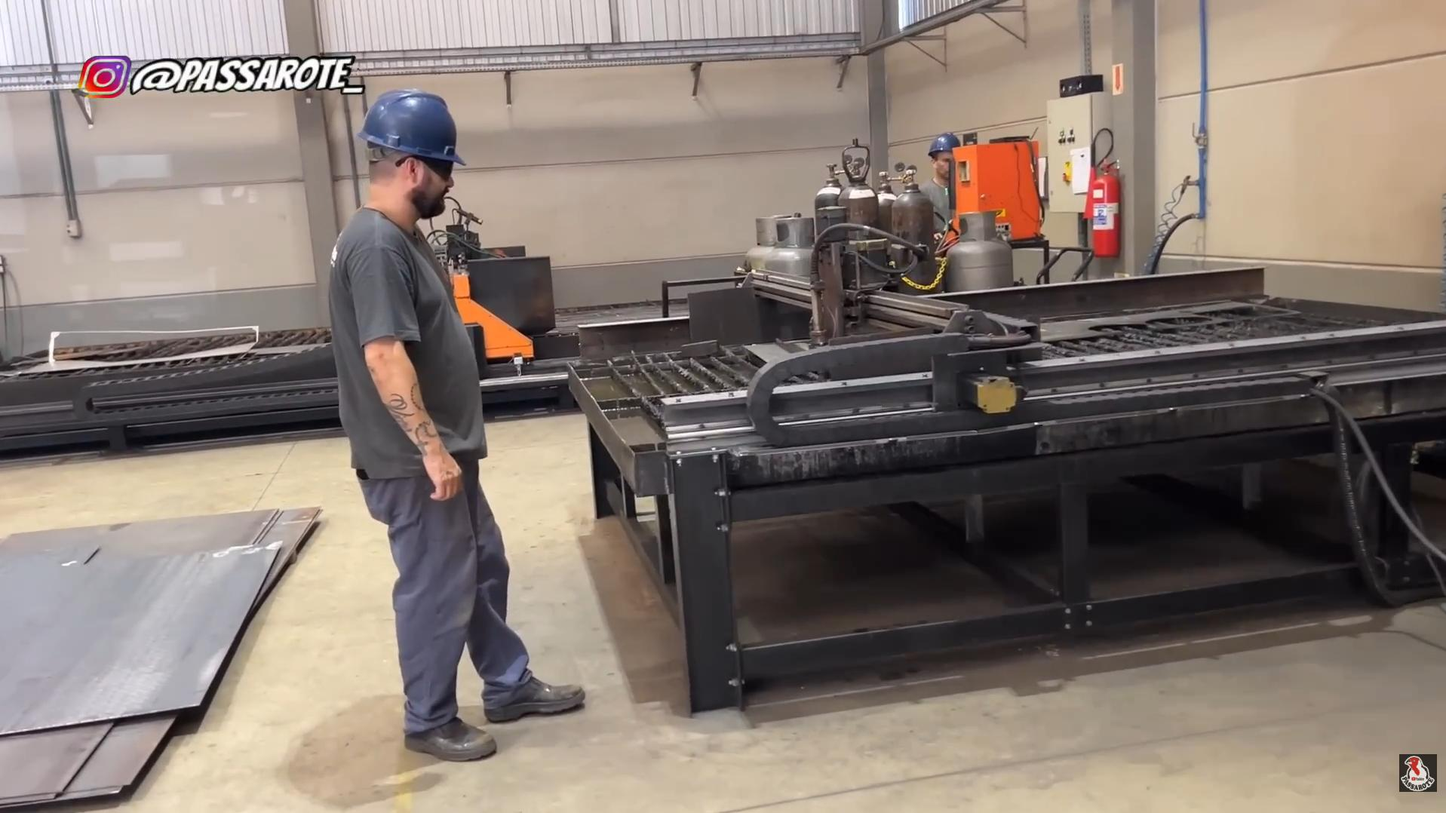boots: (396, 708, 503, 765)
helmet: (352, 87, 473, 177), (926, 132, 962, 164)
